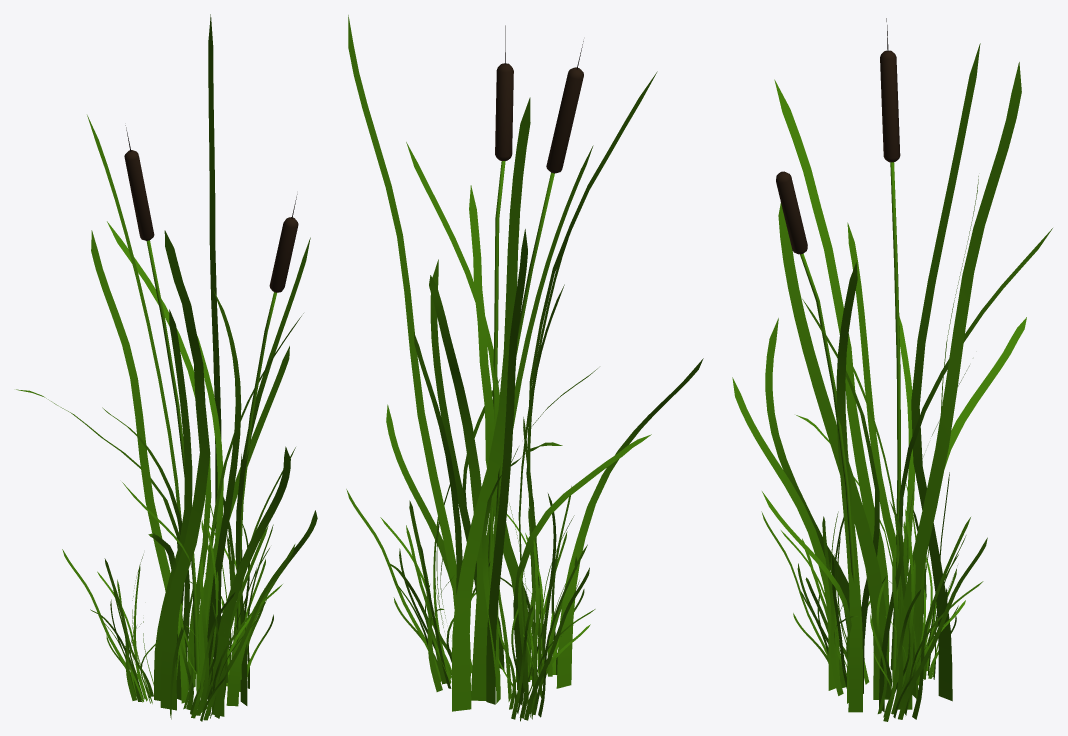
The model's file is cattails.glb.
The picture shows the model from 3 angles, left to right: view 1: azimuth 30°, elevation 25°; view 2: azimuth 150°, elevation 25°; view 3: azimuth 270°, elevation 25°; orthographic projection. The views are drawn at different scales.
Visible parts, largest first — view 1: cattails; view 2: cattails; view 3: cattails.
Boxes of the visible parts, x1=… form: cattails: x1=16, y1=14, x2=317, y2=721; cattails: x1=346, y1=15, x2=703, y2=721; cattails: x1=732, y1=18, x2=1052, y2=721.
Bounding box in the file's own units: 0.6447 × 1.7 × 0.732.
Materials: 1 (1 with a texture image).
